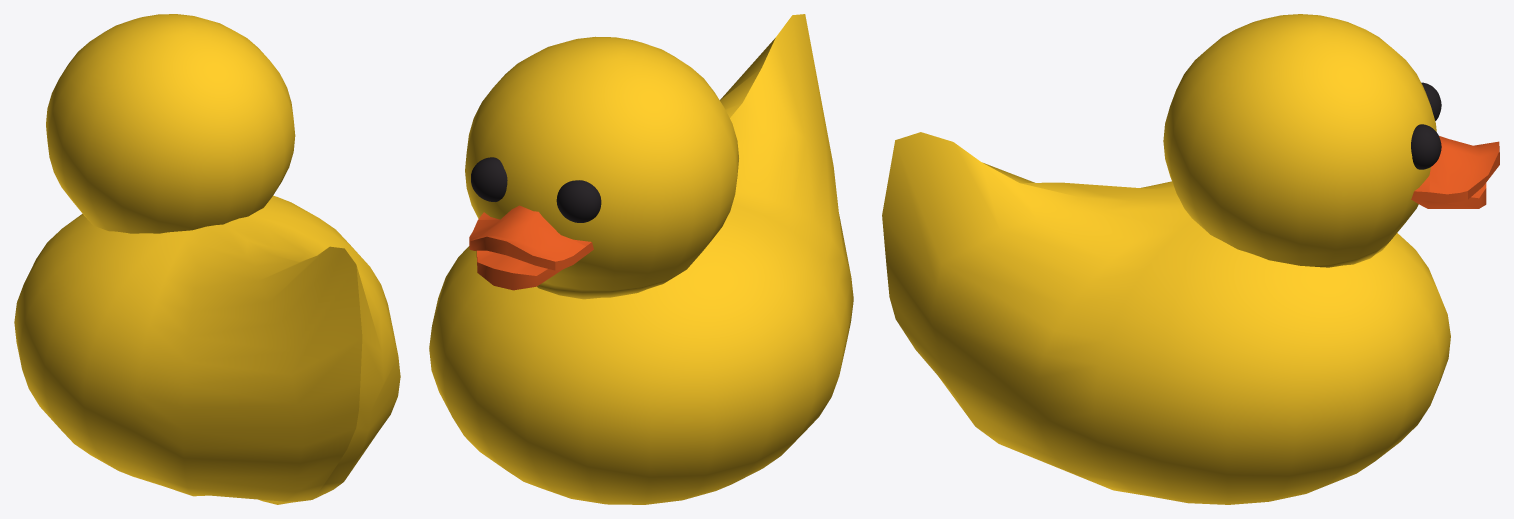
File: rubber_duck1.glb
3 renders of one model, left to right at view 1: azimuth 30°, elevation 25°; view 2: azimuth 150°, elevation 25°; view 3: azimuth 270°, elevation 25°, orthographic. The views are drawn at different scales.
Parts seen in each view (by area): view 1: pSphere2, pSphere1; view 2: pSphere2, pSphere1, pCube1, pCube2, pSphere3, pSphere4; view 3: pSphere2, pSphere1, pCube1, pSphere4, pCube2.
Part boxes in pixels (box(x1,y1,x2,y2)): pSphere2: box(14, 195, 400, 504); pSphere1: box(46, 14, 295, 233); pSphere2: box(429, 14, 853, 504); pSphere1: box(465, 36, 738, 299); pCube1: box(469, 205, 593, 270); pCube2: box(476, 250, 563, 290); pSphere3: box(556, 180, 601, 222); pSphere4: box(471, 157, 507, 201); pSphere2: box(882, 132, 1450, 504); pSphere1: box(1163, 14, 1436, 267); pCube1: box(1411, 136, 1499, 203); pSphere4: box(1411, 124, 1441, 169); pCube2: box(1412, 183, 1486, 208).
Bounding box in the file's own units: 1.2 × 1.47 × 1.82.
